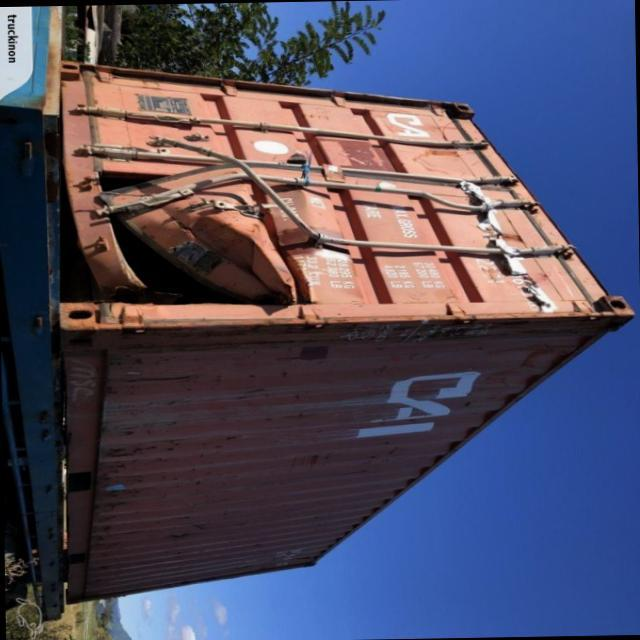hole: (61, 137, 358, 324)
rust: (72, 307, 617, 350), (88, 438, 171, 542)
